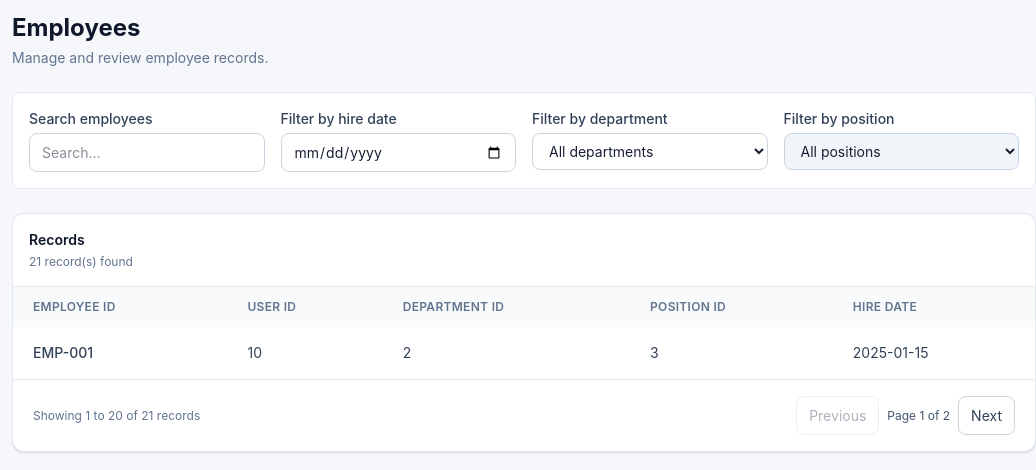
Test case: EmployeesPage › loads the next page when pagination is used
The image size is (1036, 470).
Expected: the link "EMP-001" is shown, [33,344,93,361]
Expected: the text "Page 1 of 2" is shown, [887,408,950,424]
Click the button "Next": (987, 416) [958,396,1015,435]
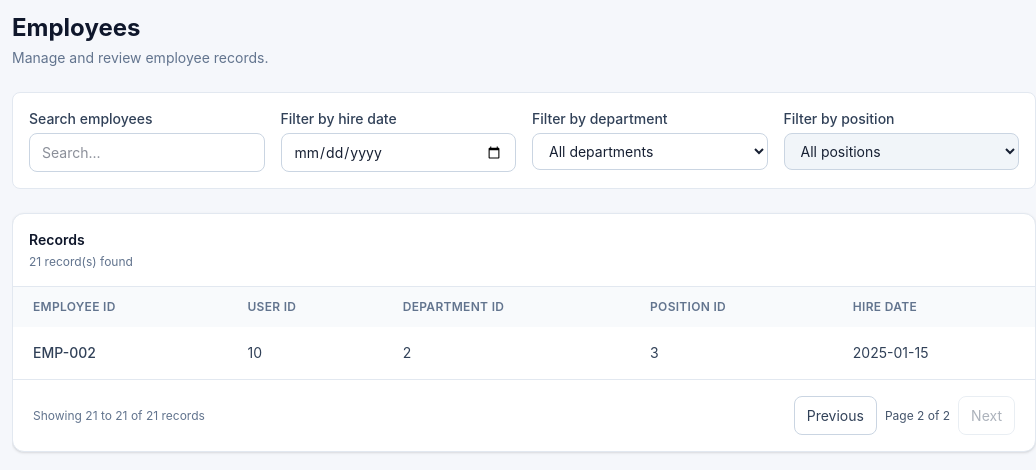
Expected: the link "EMP-002" is shown, [33,344,96,361]
